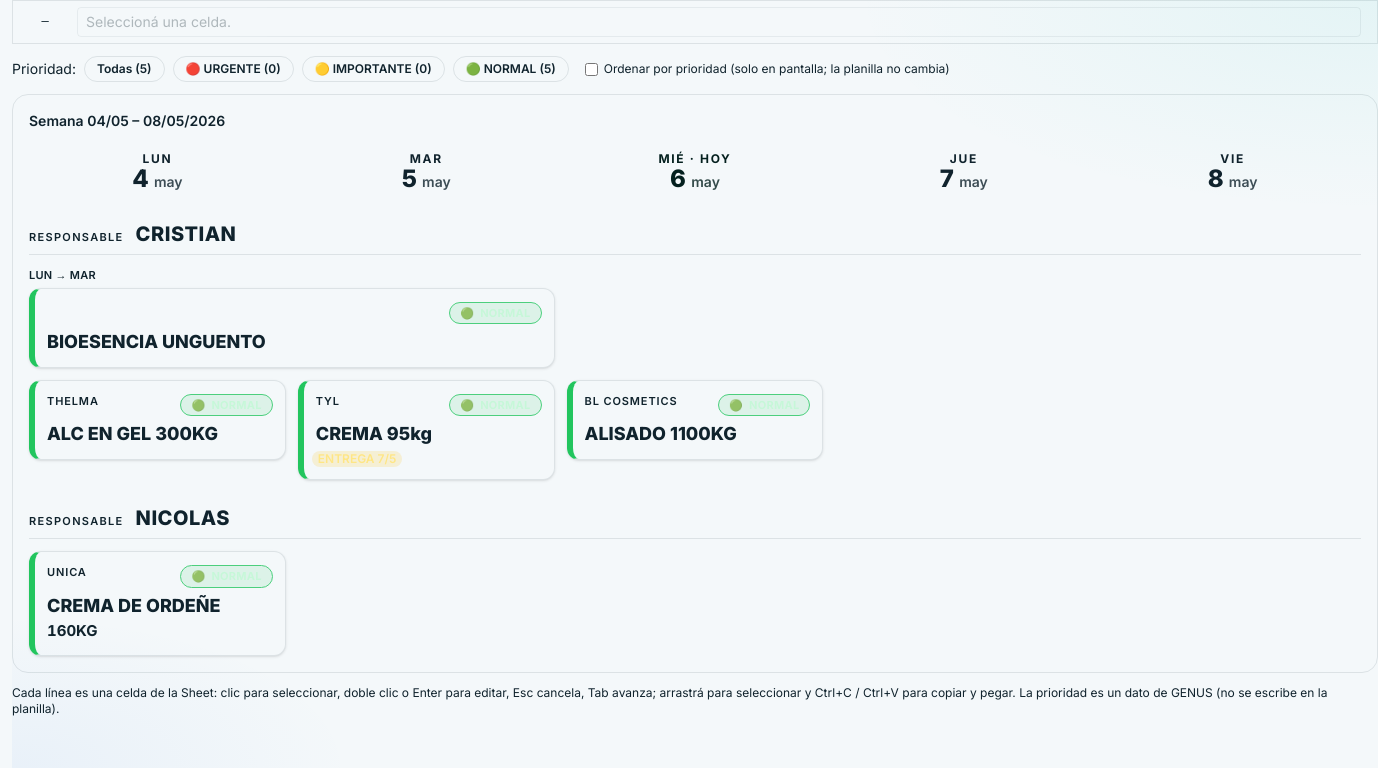
Calendario operativo (tarjetas) › Escape cancela y no guarda
Double-click the text "CREMA 95kg": (374, 434) 316,423 -> 432,444
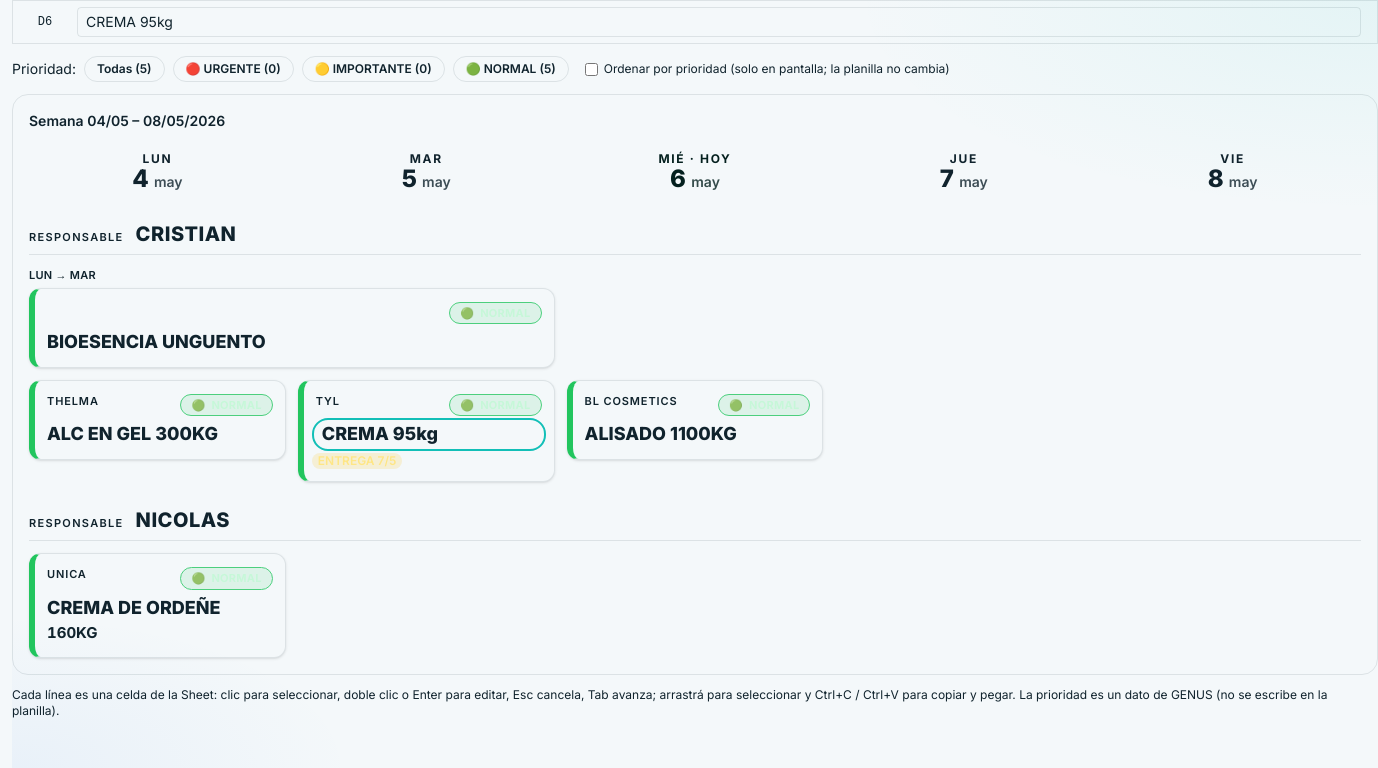
Replace the text in the field with test id "semanas-cal-input" with "otra cosa": (429, 435) 316,422 -> 542,447
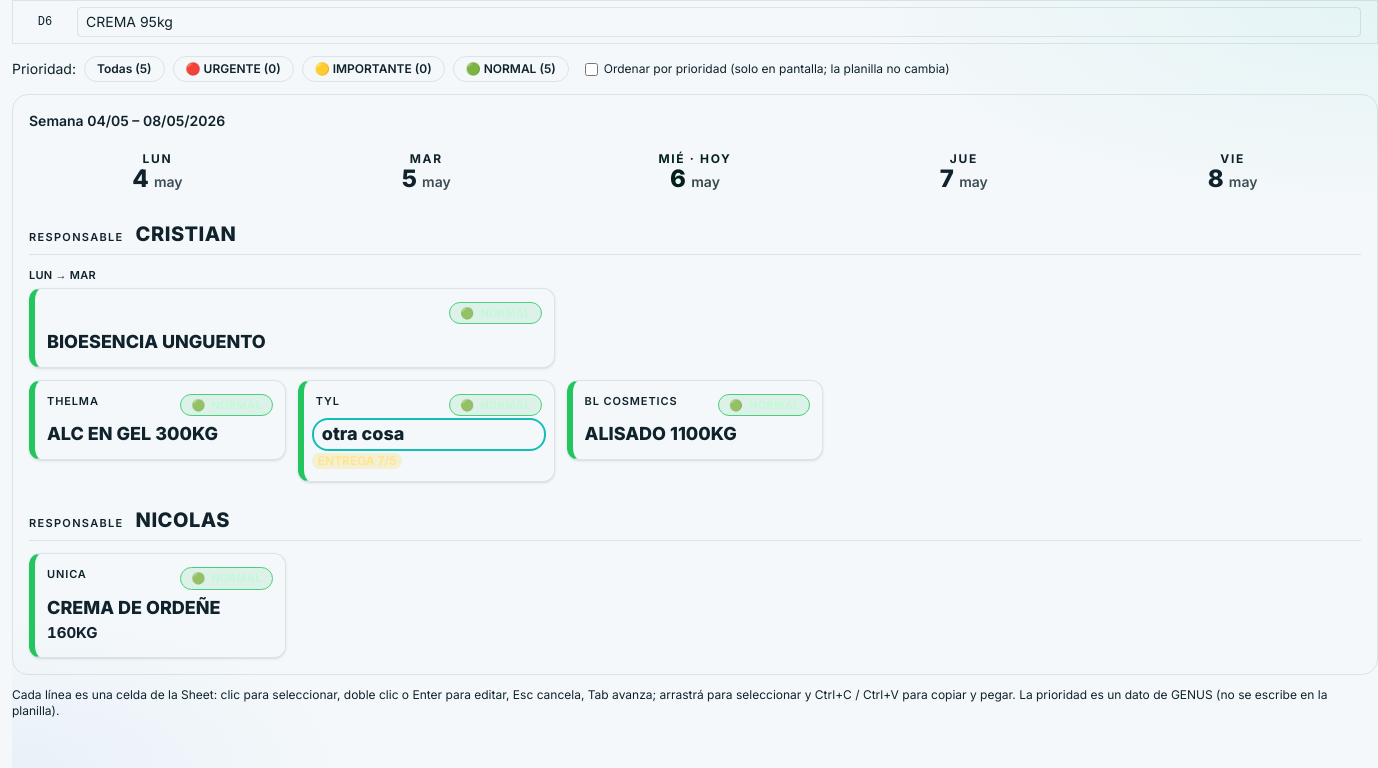
Press Escape in the field with test id "semanas-cal-input", box 316,422 -> 542,447
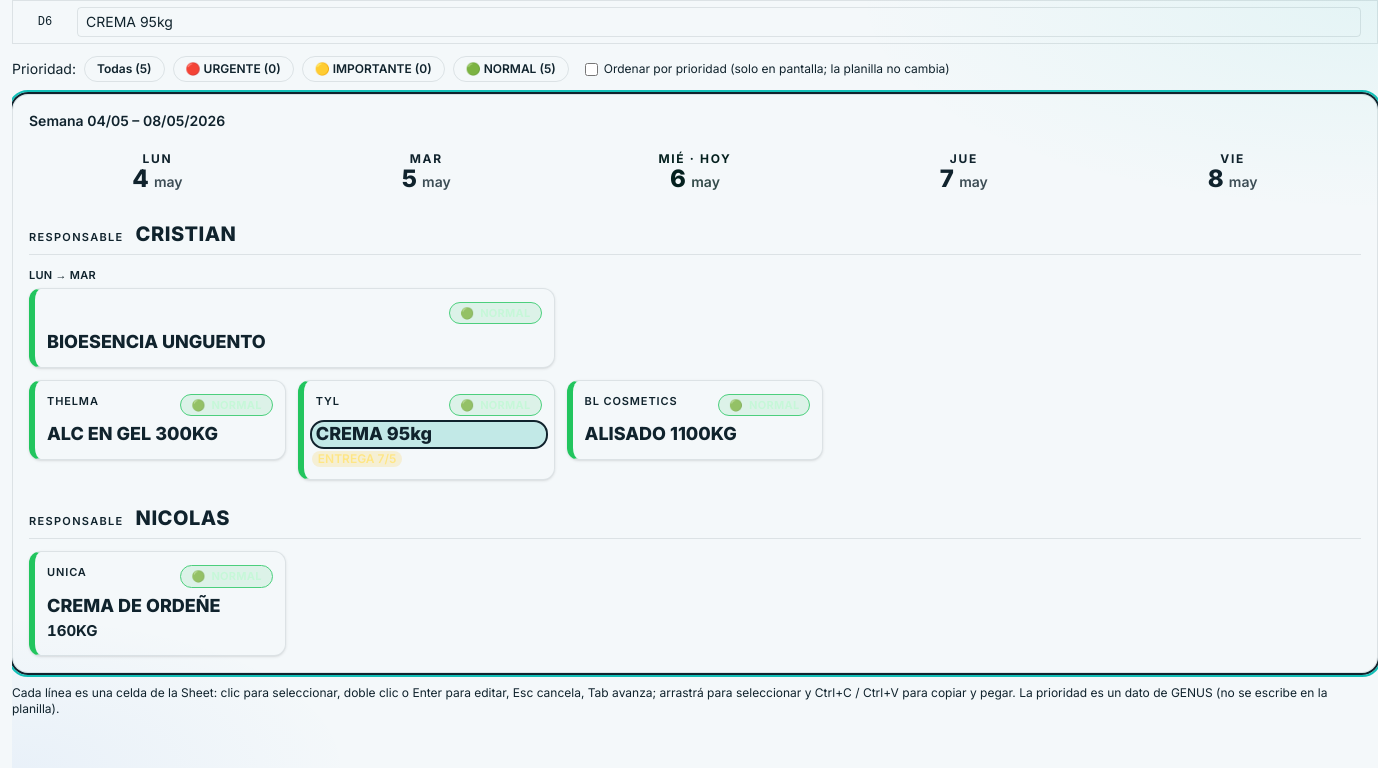
Now the field with test id "semanas-cal-input" is gone
Now the text "CREMA 95kg" is shown, box 312,422 -> 546,447
